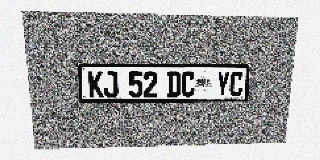2: (143, 71, 157, 97)
5: (129, 71, 143, 97)
C: (181, 71, 195, 97), (229, 71, 243, 97)
D: (167, 71, 181, 97)
J: (103, 71, 118, 98)
K: (88, 71, 104, 98)
Y: (216, 71, 230, 97)
